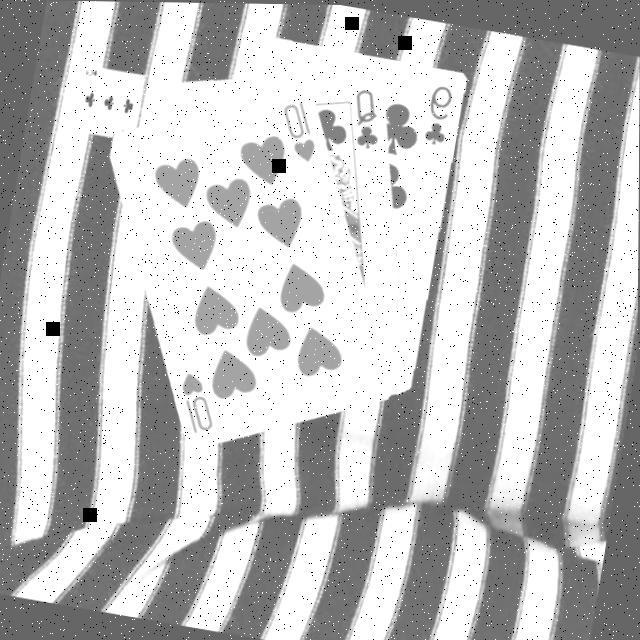10H: (170, 364, 226, 436), (272, 90, 326, 163)
9C: (420, 76, 458, 146)
QC: (344, 80, 390, 152)
